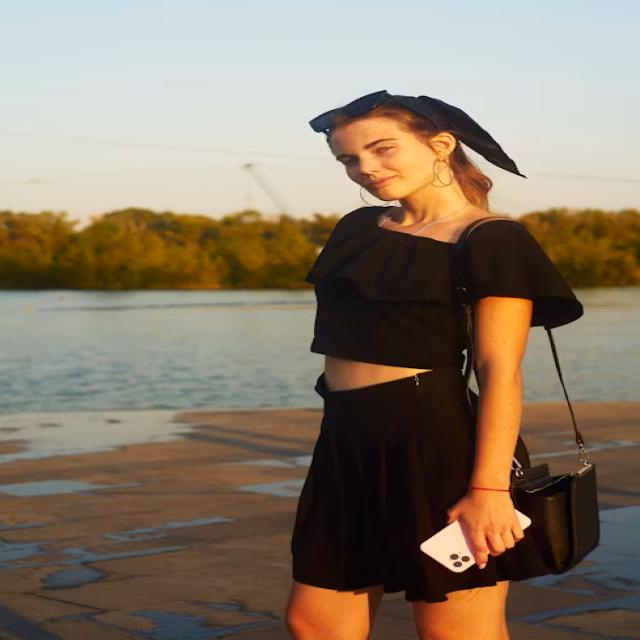Edited images: (256, 77, 610, 640)
